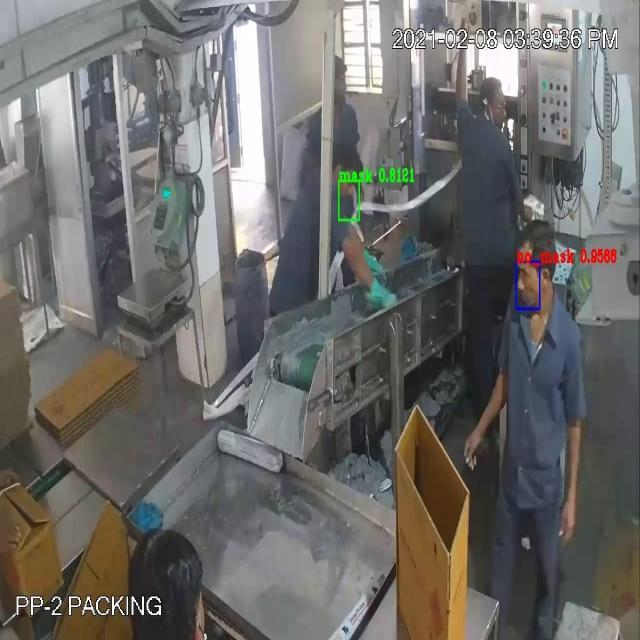Gloves: (36, 97, 574, 472)
